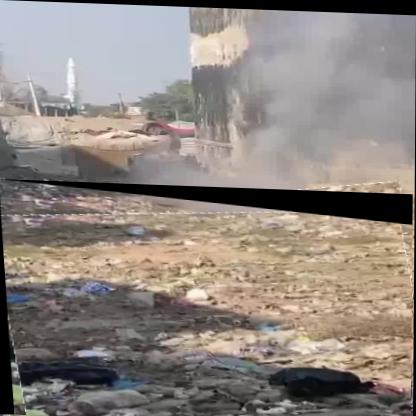Garbage: (1, 180, 415, 416)
